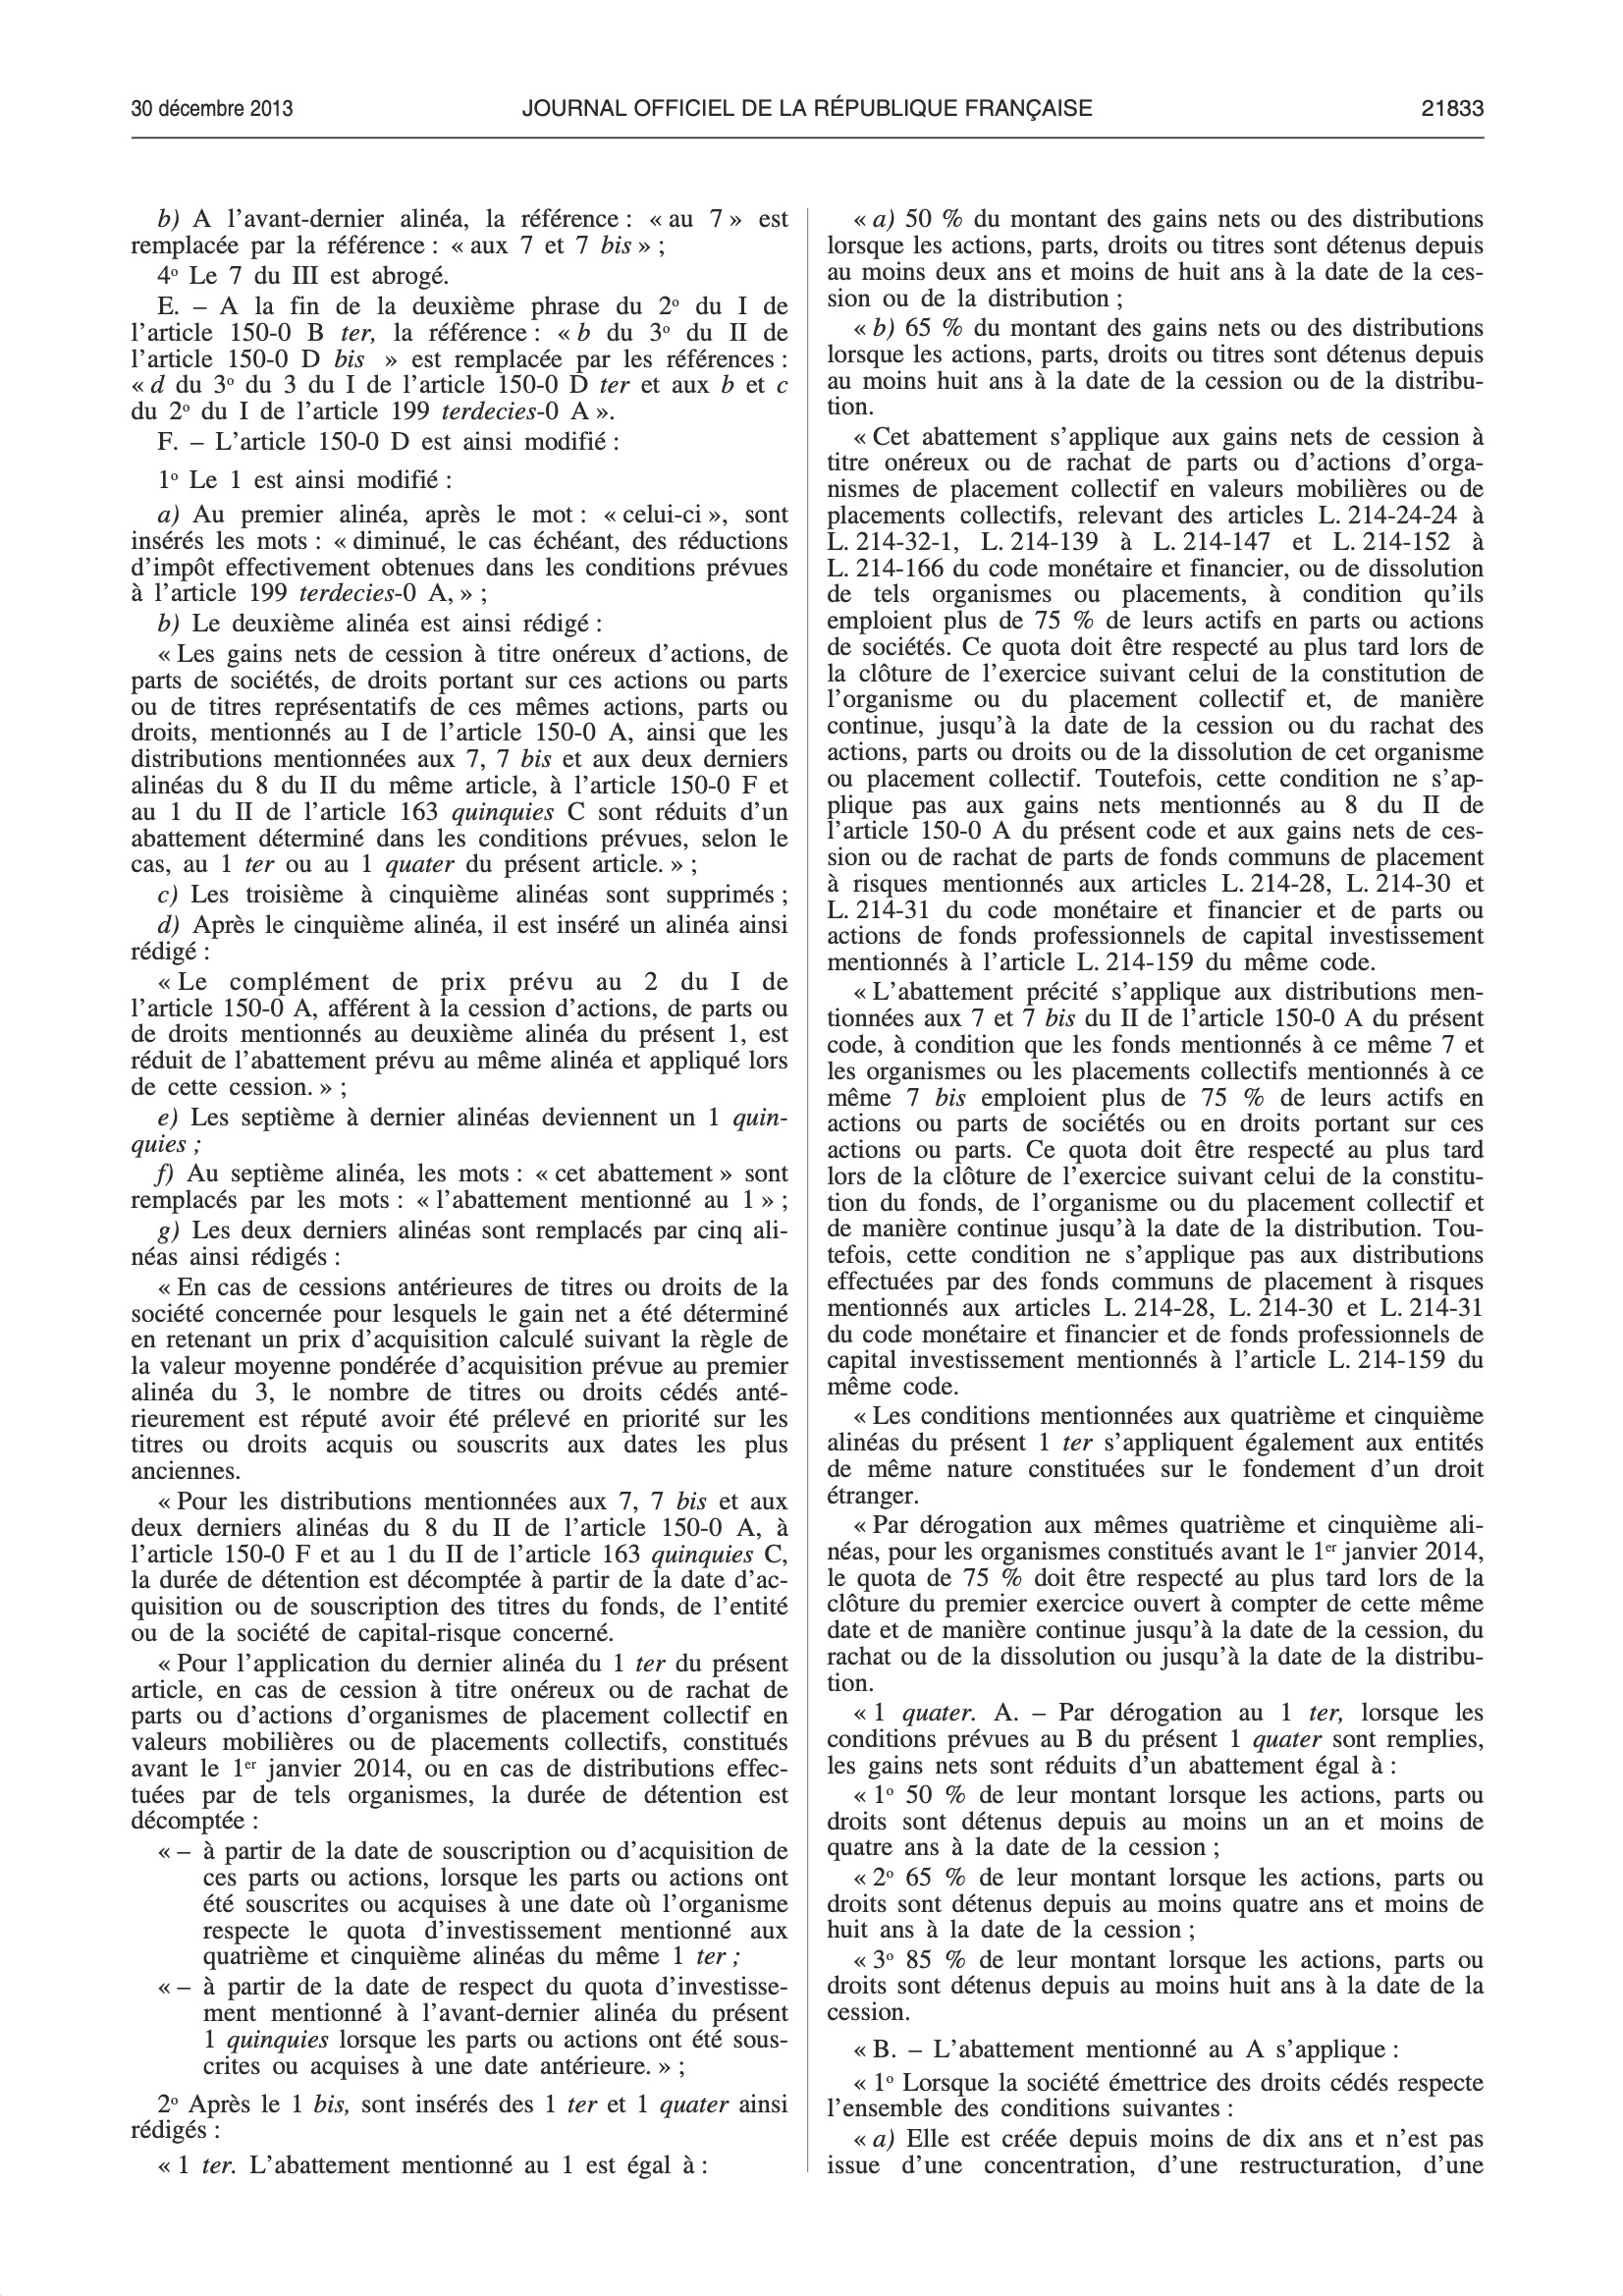MainZone-Date: (118, 86, 300, 132)
MainZone-ListItem: (118, 292, 792, 423), (141, 1834, 794, 1969), (819, 200, 1490, 313), (135, 1971, 794, 2083), (819, 311, 1490, 420), (119, 499, 792, 606), (119, 878, 792, 968), (819, 1943, 1491, 2031), (819, 1699, 1488, 1781), (820, 1862, 1490, 1945), (819, 1781, 1490, 1862), (817, 2122, 1490, 2185), (119, 197, 789, 260), (119, 2087, 792, 2148), (116, 1216, 792, 1274), (119, 1101, 792, 1159), (119, 1159, 792, 1217), (819, 2066, 1490, 2122), (132, 2148, 732, 2185), (820, 2032, 1430, 2068), (119, 606, 643, 641), (126, 425, 641, 460), (133, 462, 462, 501), (126, 258, 450, 292)
MainZone-P: (817, 420, 1493, 978), (817, 977, 1495, 1395), (119, 638, 794, 878), (121, 1272, 794, 1483), (119, 1648, 796, 1834), (820, 1511, 1490, 1695), (121, 1486, 796, 1646), (119, 968, 794, 1101), (819, 1402, 1491, 1509)
NumberingZone: (1412, 90, 1490, 128)
RunningTitleZone: (509, 81, 1101, 135)
